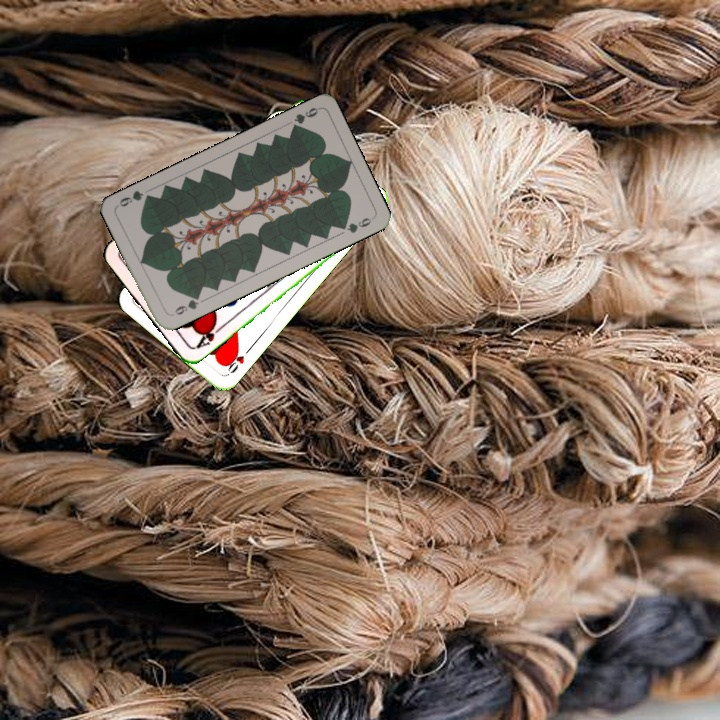G9: (287, 103, 322, 133), (167, 291, 202, 319)
HA: (191, 318, 226, 352)
HO: (221, 344, 253, 376)
